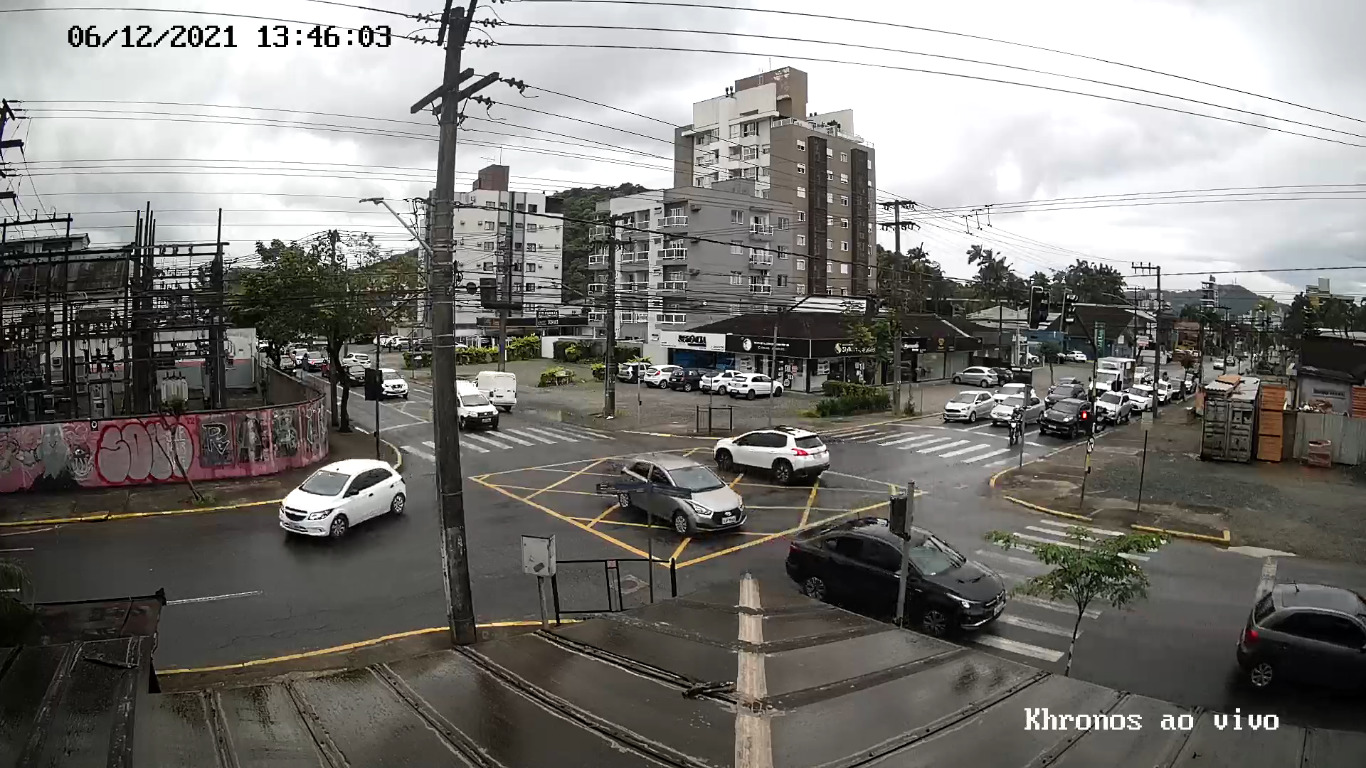car: (786, 516, 1007, 639), (1238, 581, 1366, 692), (618, 452, 747, 538), (277, 457, 407, 540), (713, 424, 830, 486)
